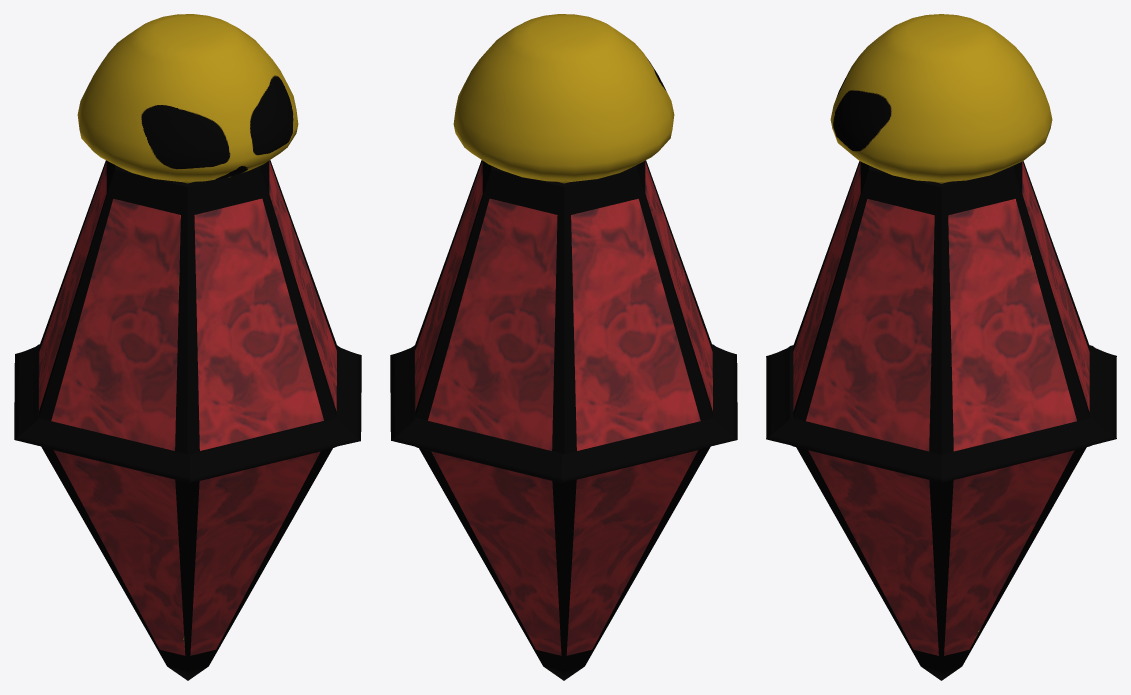
The model's file is poisonVial.fbx.
The picture shows the model from 3 angles, left to right: view 1: azimuth 30°, elevation 25°; view 2: azimuth 150°, elevation 25°; view 3: azimuth 270°, elevation 25°; orthographic projection.
Parts seen in each view (by area): view 1: vial, skull1; view 2: vial, skull1; view 3: vial, skull1.
Part boxes in pixels (box(x1,y1,x2,y2)): vial: box(14, 160, 361, 680); skull1: box(77, 14, 298, 183); vial: box(390, 160, 737, 680); skull1: box(453, 14, 674, 183); vial: box(766, 161, 1116, 680); skull1: box(830, 14, 1052, 183).
Size of the model in its own units: 0.1024 by 0.1834 by 0.0895.
Materials: 2 (1 with a texture image).
